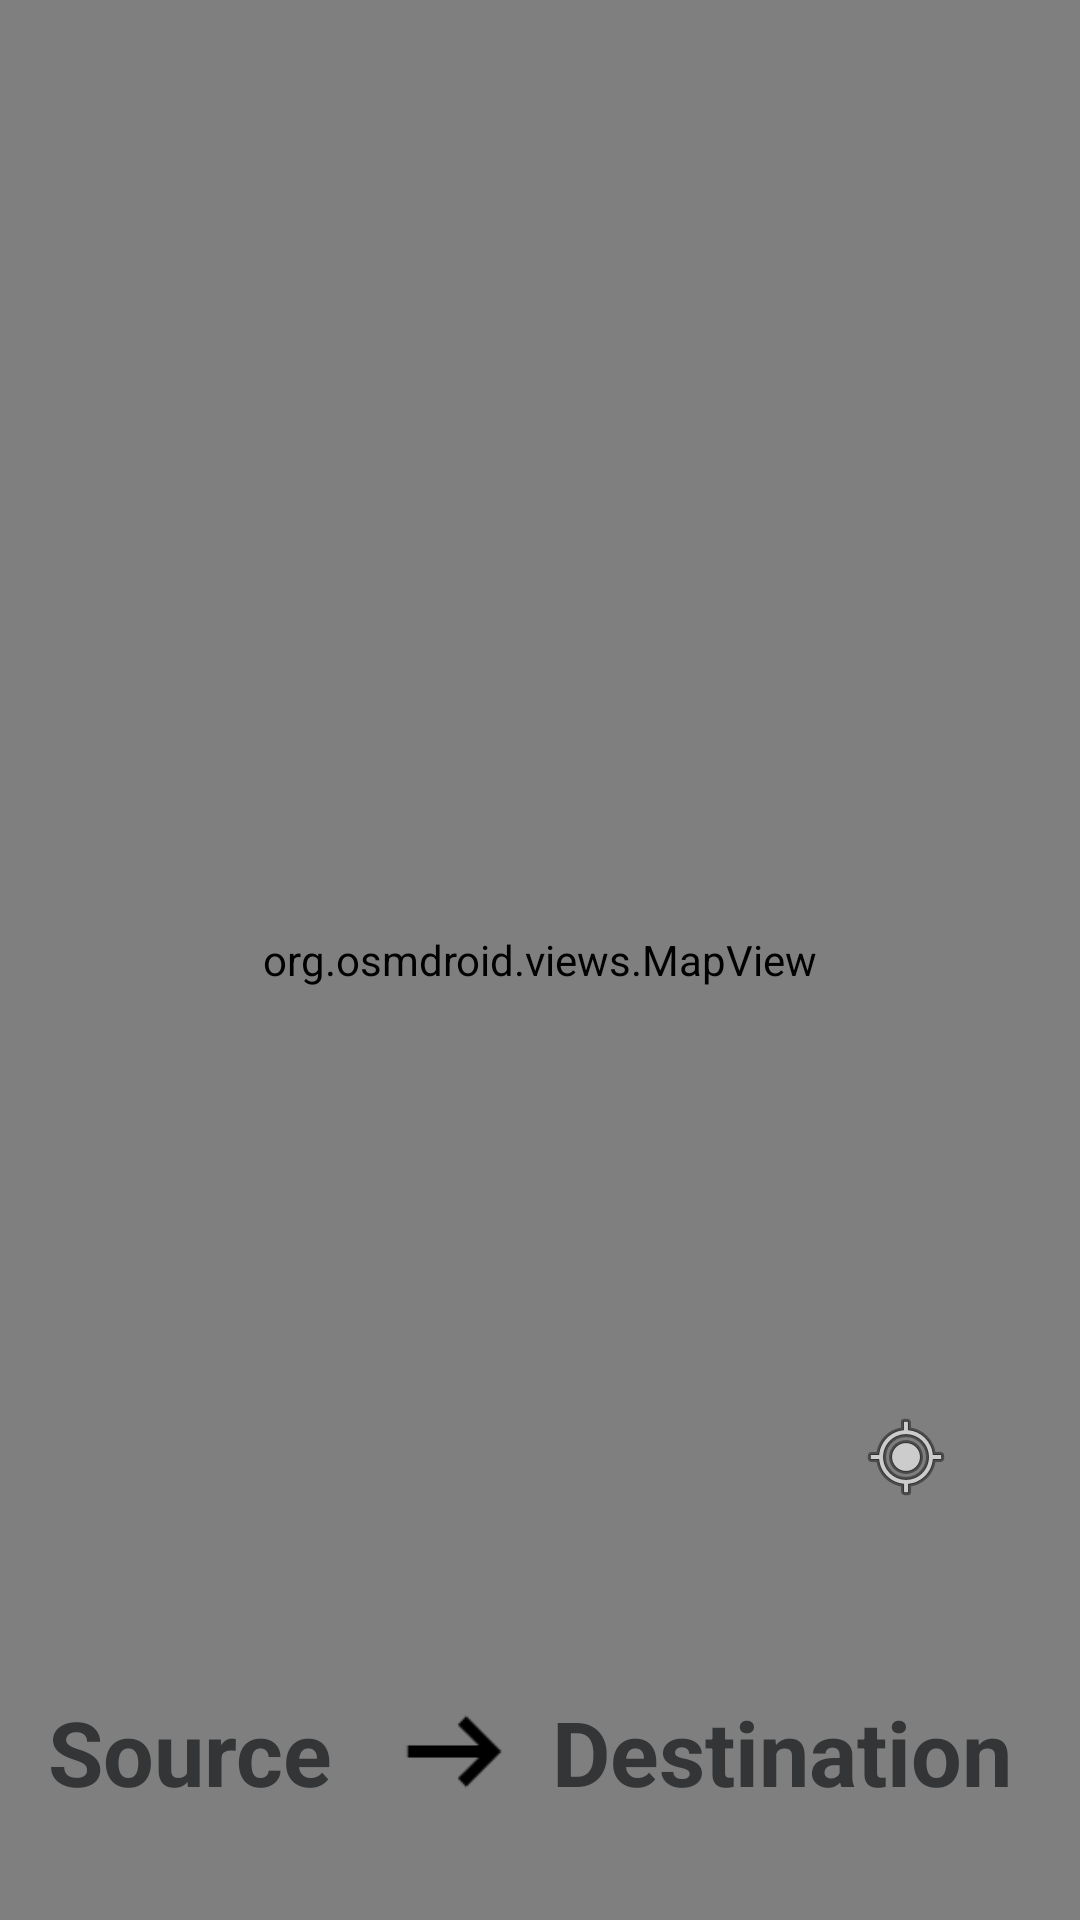

Icon click points for this 1080w x 1920h phone screenshot, format (x=x, y=y):
Recenter on my location: (x=906, y=1457)
